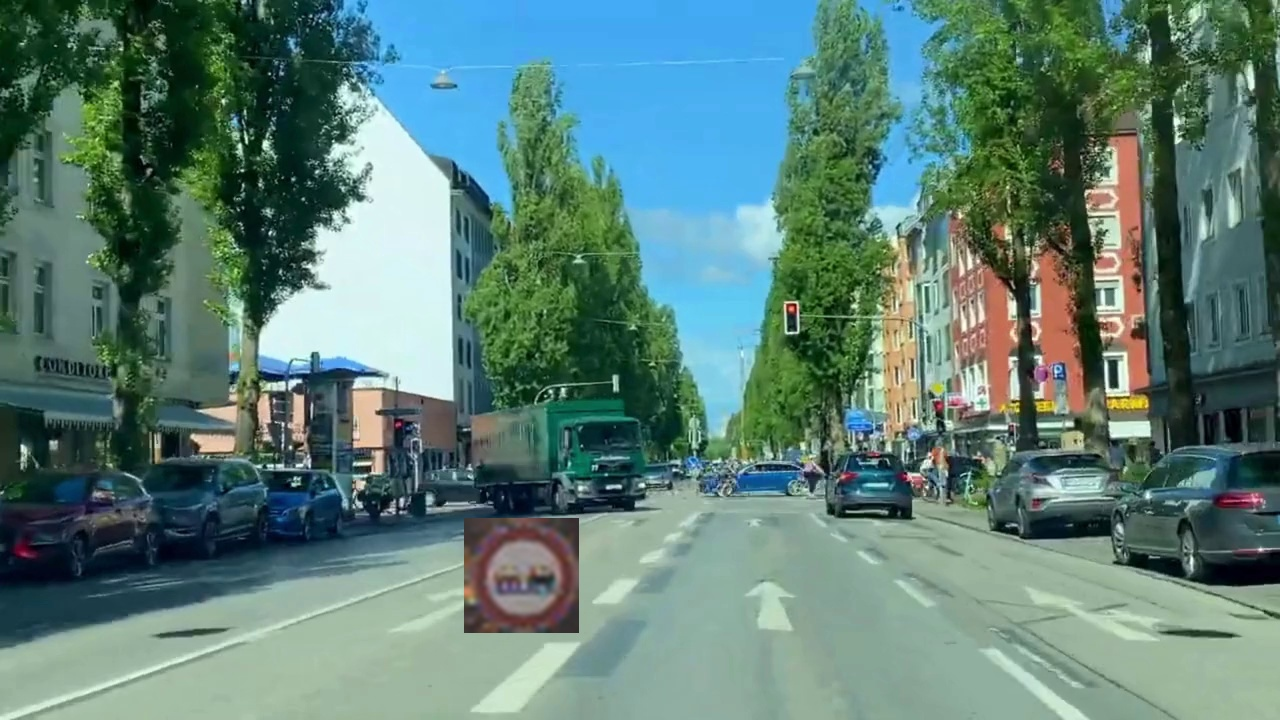No passing: (464, 518, 579, 633)
